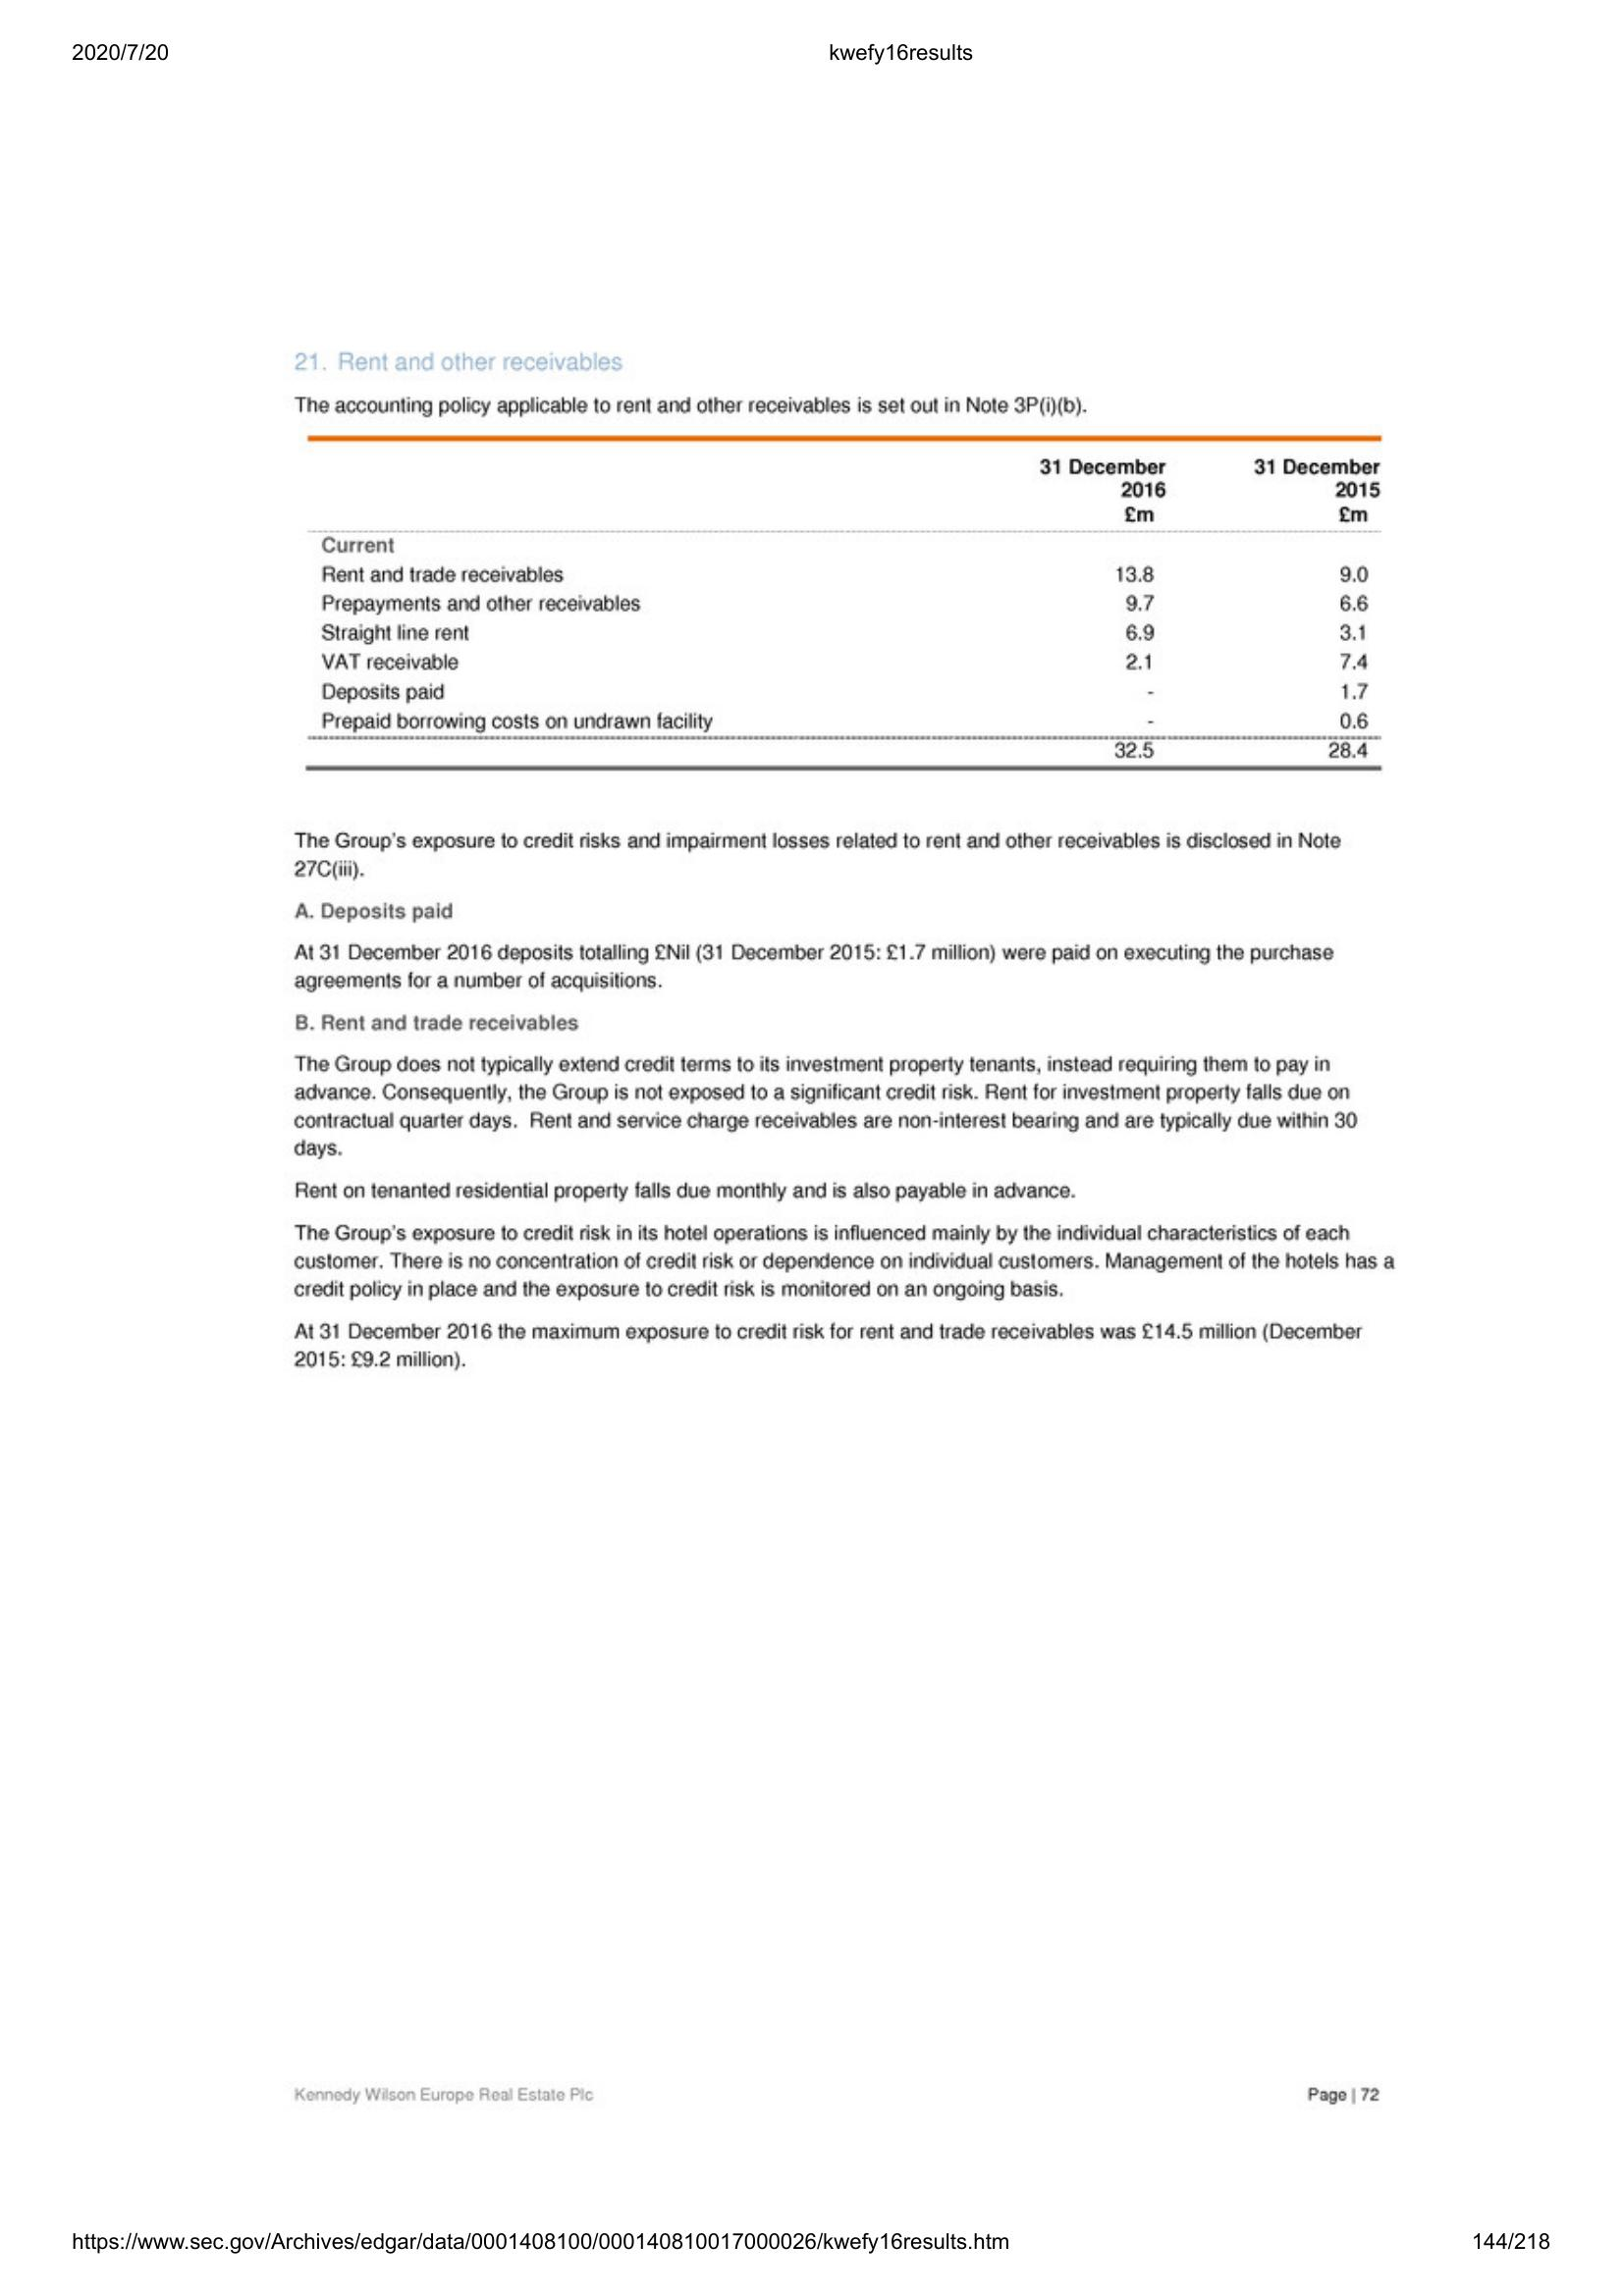table: (295, 425, 1393, 781)
